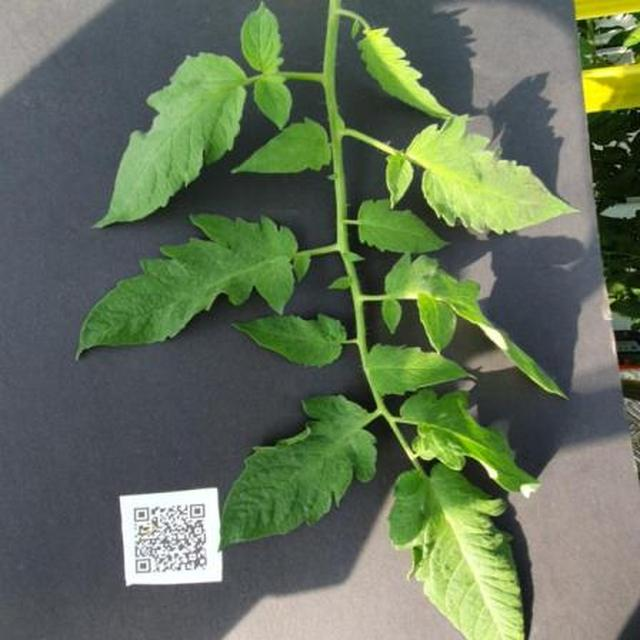Healthy Leaf: (135, 80, 640, 640)
